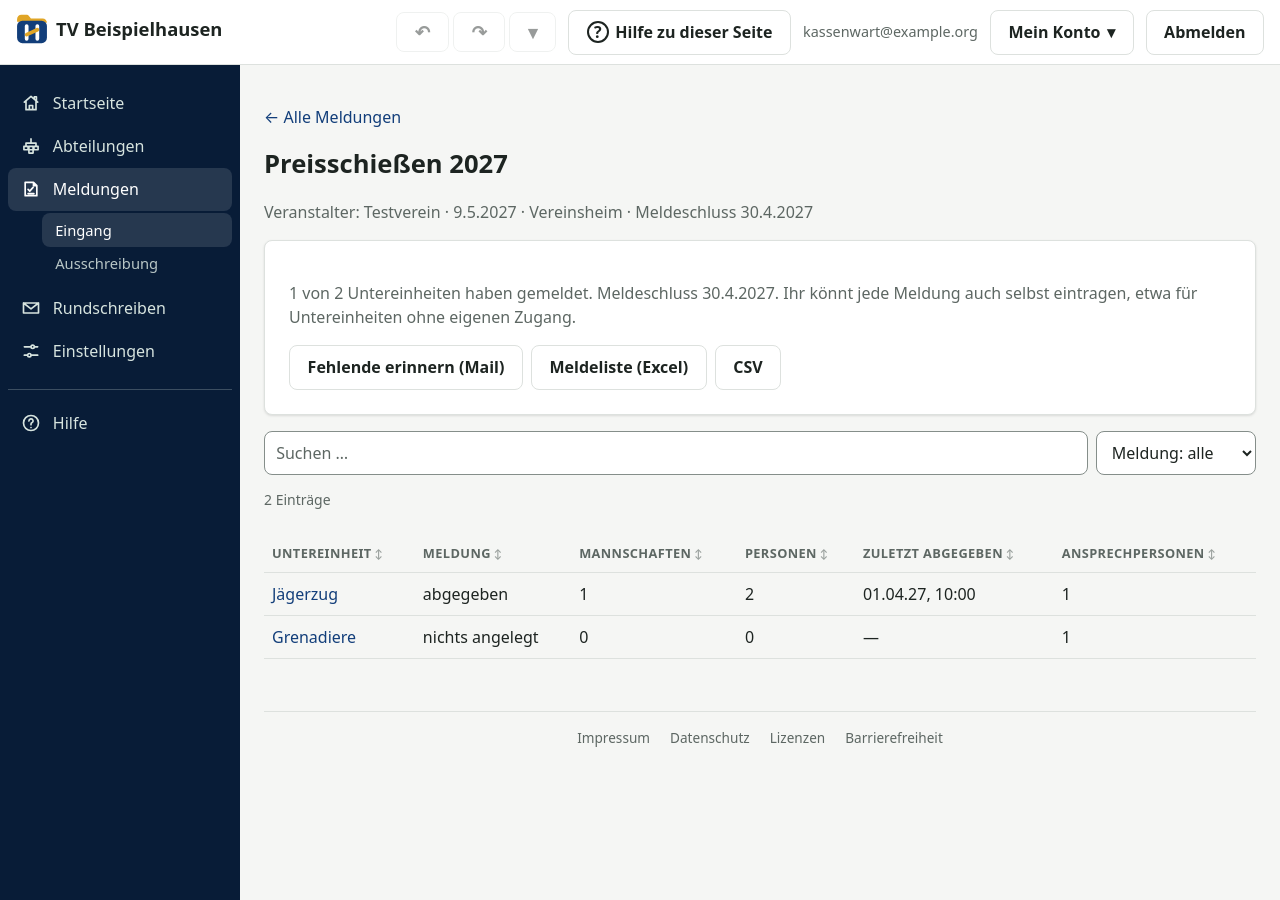
it: Meldungen an Untereinheiten › zeigt dem Veranstalter den Eingang und erinnert die Fehlenden
The width and height of the screenshot is (1280, 900).
Expected: the text "1 von 2 Untereinheiten haben gemeldet" is shown, [289,282,593,304]
Expected: the link "Grenadiere" is shown, [272,626,356,648]
What coordinates should you click on to do the following:
click the button "Fehlende erinnern (Mail)"
I would click on:
 (406, 367)
Its box is [289,345,523,390].
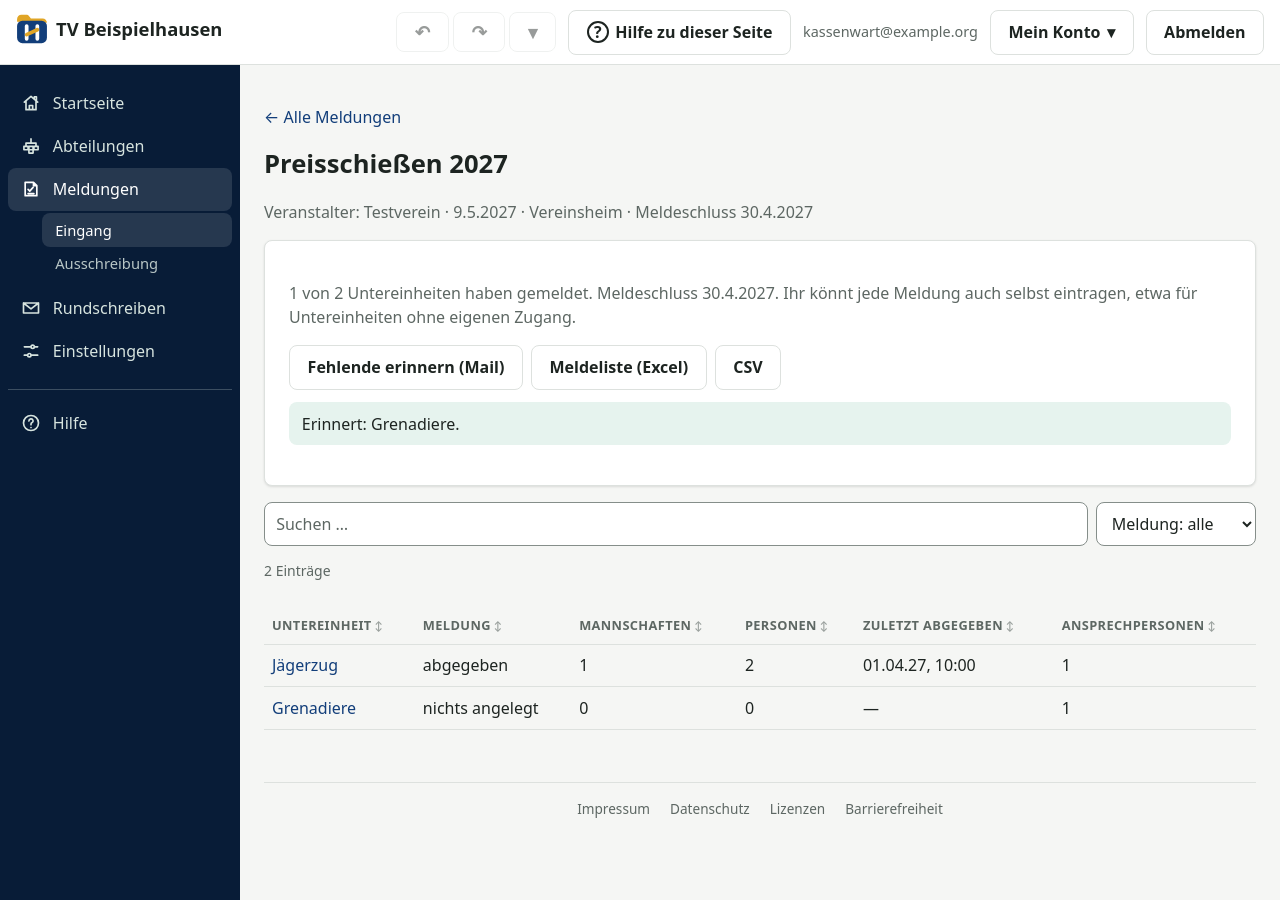
Now the text "Erinnert: Grenadiere." is shown, box [289,402,1231,445]
